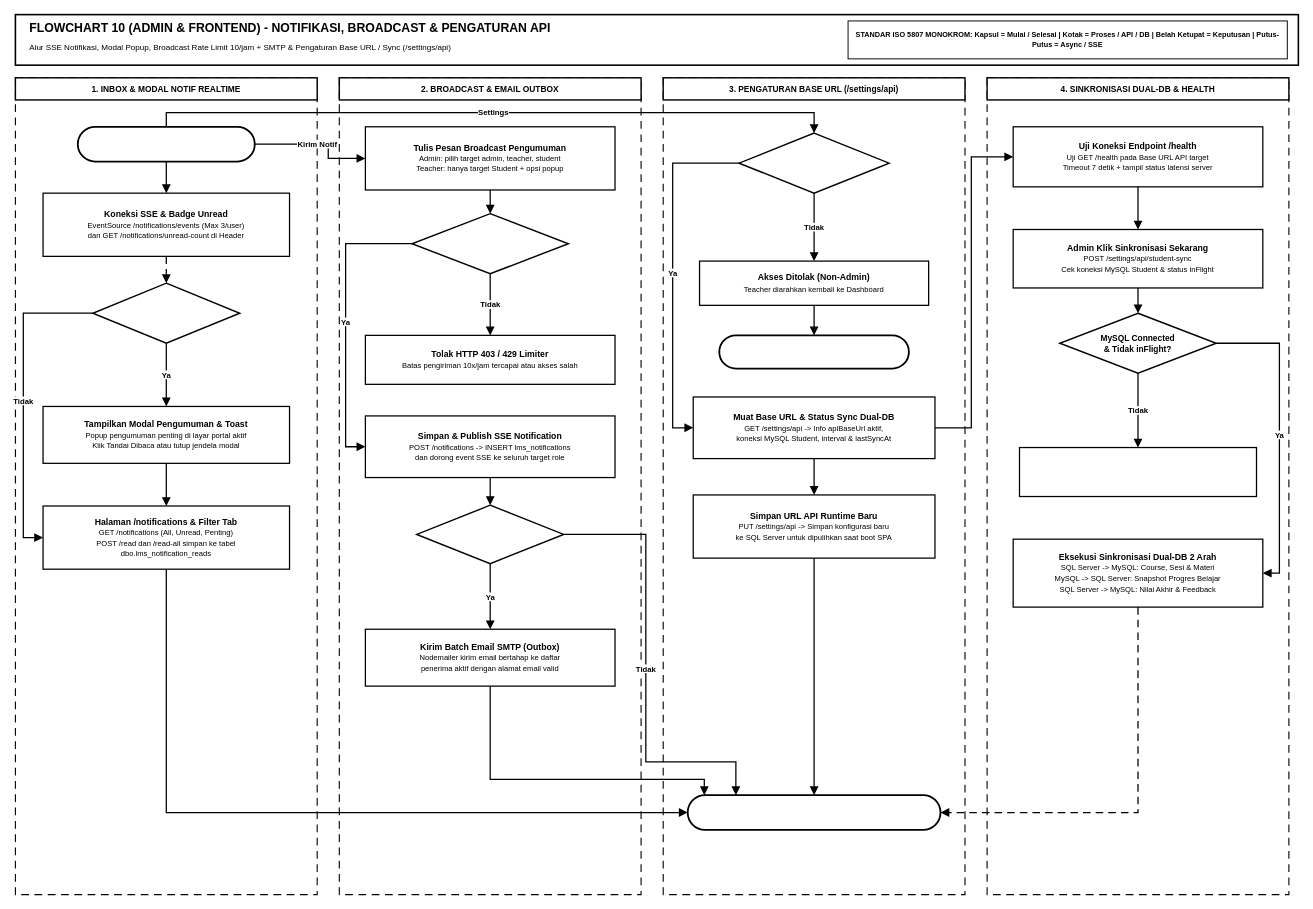
Some shapes in this 1313 by 909 pixel diagram are drawn without their labels. Each missing label, with the centre of its shape:
"AKSES SETTINGS DITOLAK" belongs at [813,351].
"Guard /settings/api Role = Admin?" belongs at [813,162].
"NOTIFIKASI & KONFIGURASI SELESAI" belongs at [813,812].
"Opsi sendEmail Dicentang?" belongs at [490,534].
"Origin + Role + Limit <= 10/jam OK?" belongs at [490,243].
"PORTAL NOTIF / SETTINGS" belongs at [166,144].
"Terima Event showPopup = true?" belongs at [166,313].
"Tolak HTTP 409 Conflict Sinkronisasi sedang berjalan / env belum siap" belongs at [1137,472].
